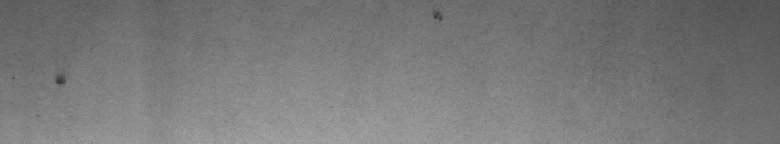fi: (425, 4, 448, 26)
